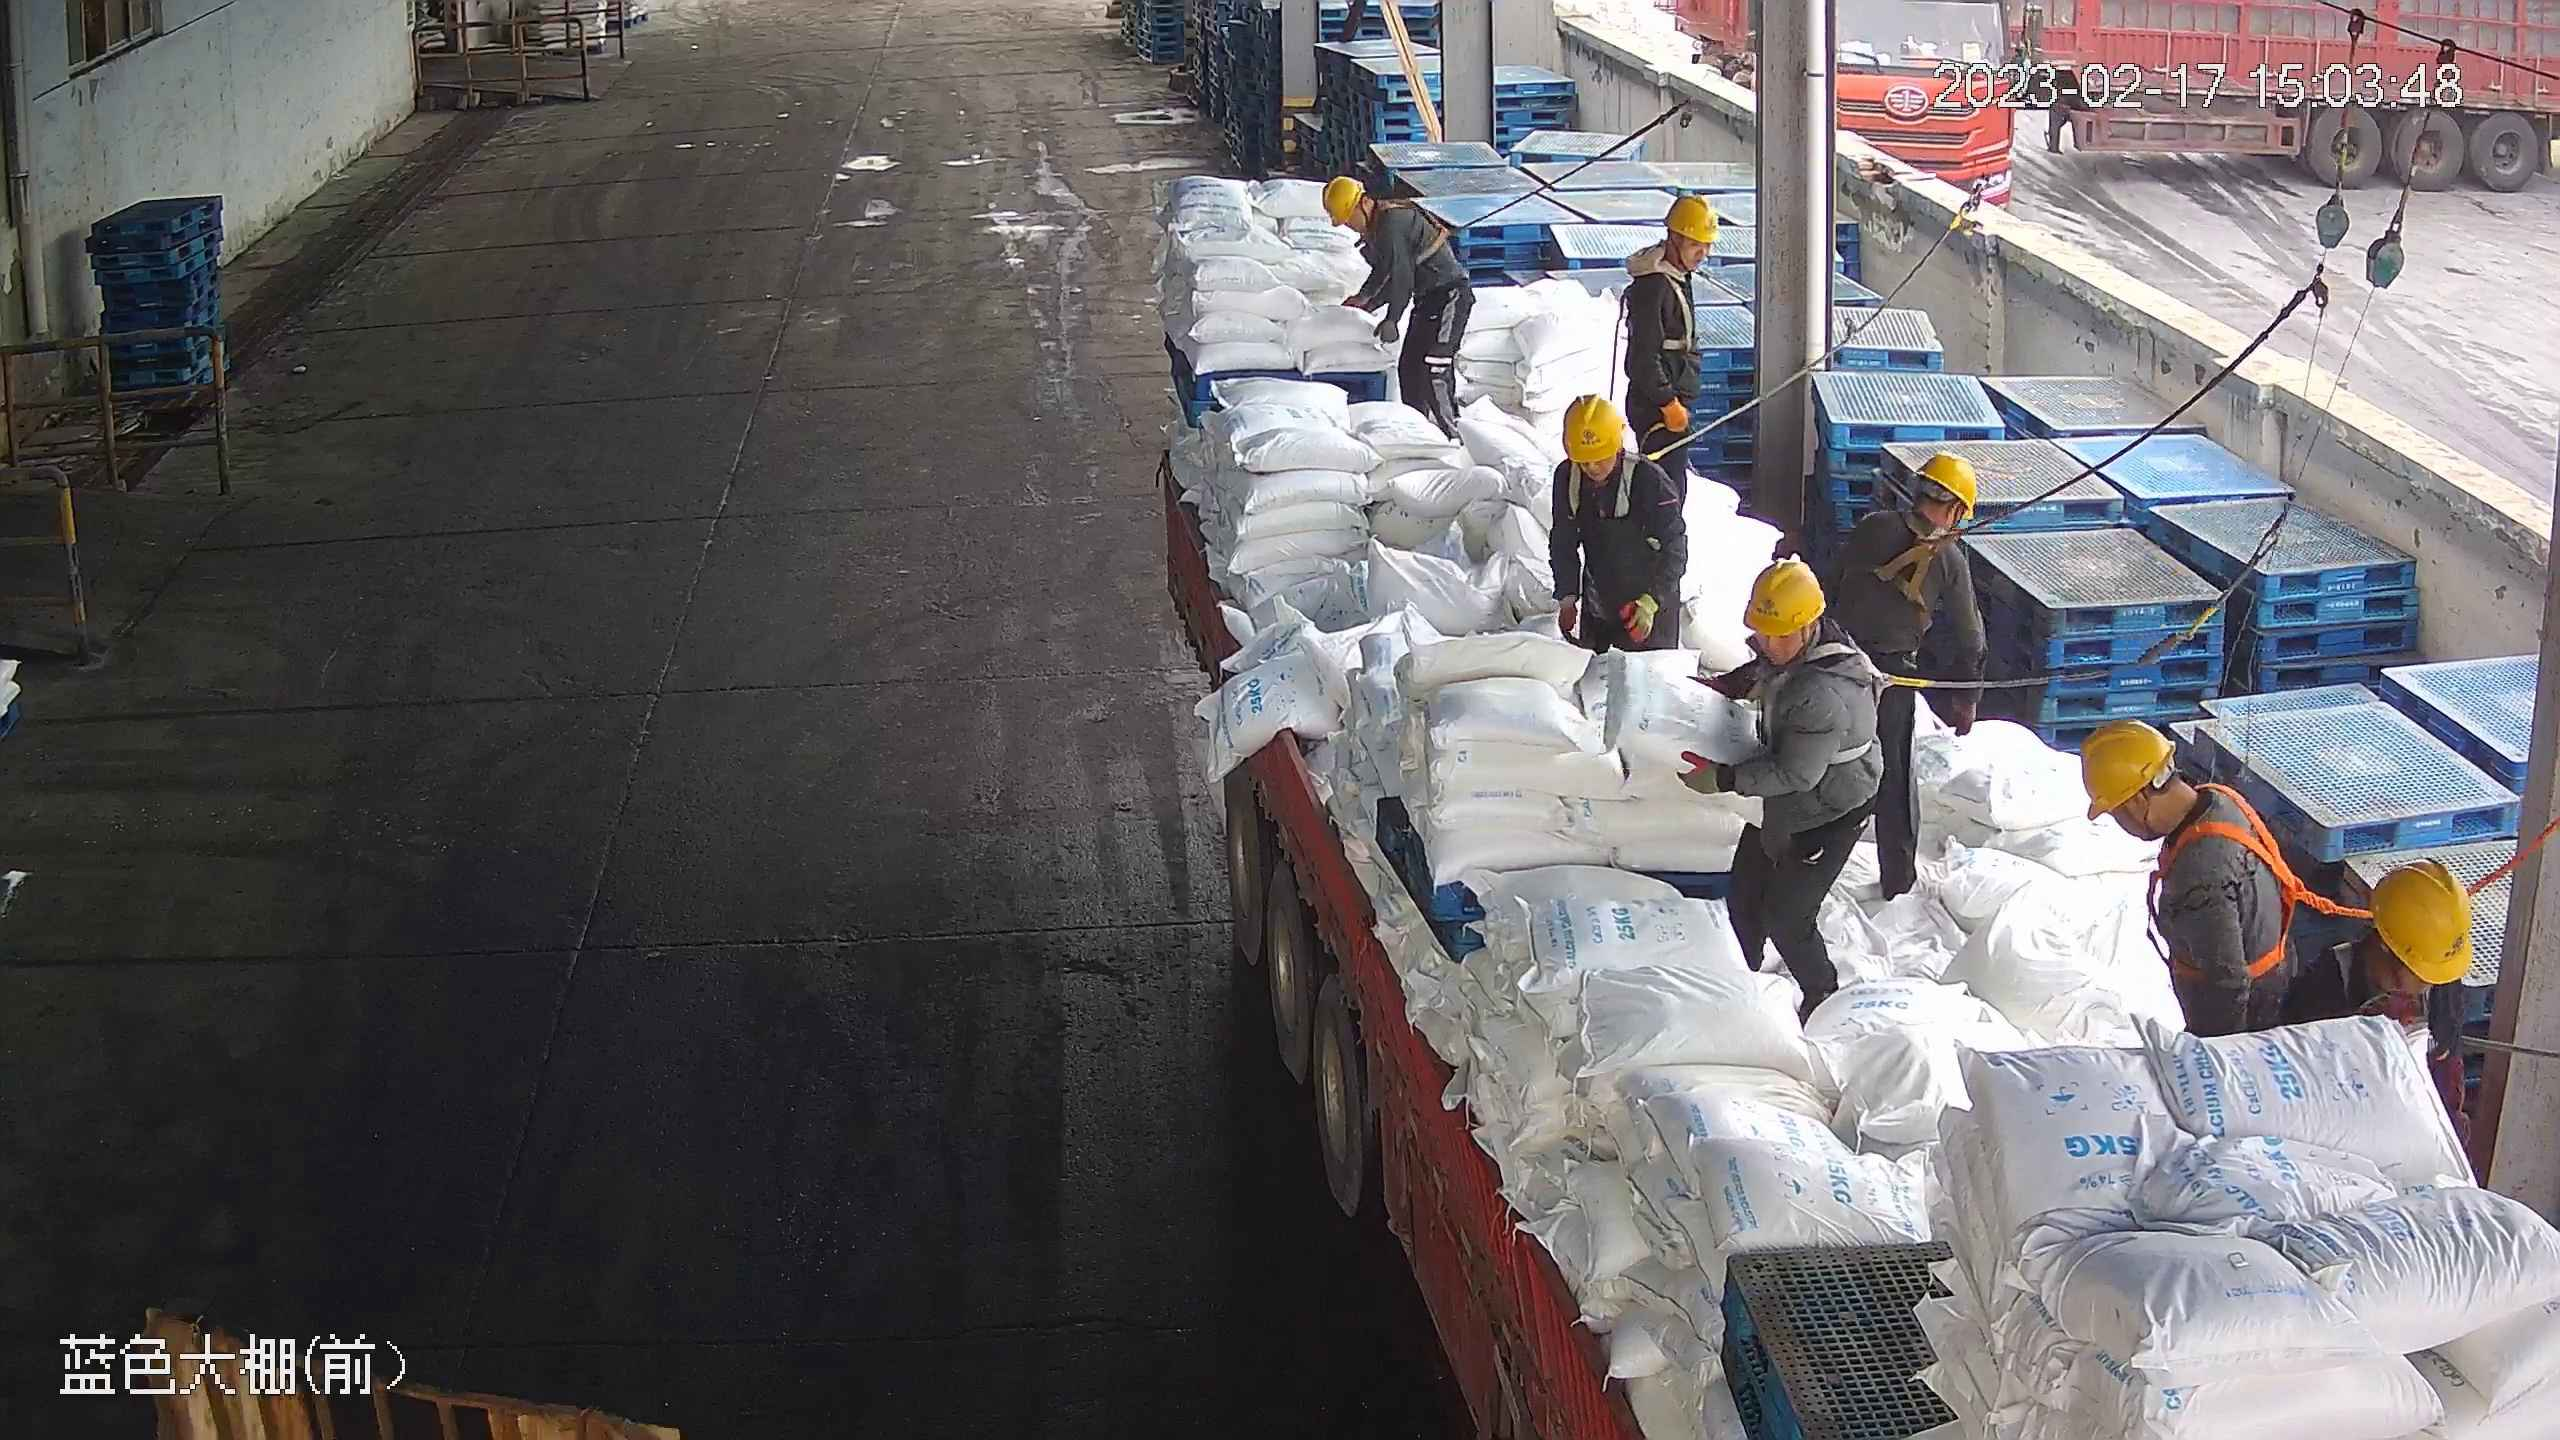belt: (2157, 801, 2326, 982), (1742, 632, 1900, 769), (1861, 499, 1977, 602), (1631, 254, 1711, 346), (1372, 196, 1455, 269), (2321, 924, 2380, 1028), (1567, 444, 1647, 518)
head: (2077, 715, 2293, 894), (2295, 855, 2486, 1006), (1729, 555, 1874, 711), (1847, 440, 1978, 568), (1548, 390, 1677, 505), (1619, 190, 1718, 305), (1321, 176, 1429, 257)
helmet: (2370, 857, 2477, 981), (2077, 715, 2174, 819), (1739, 554, 1826, 636), (1561, 389, 1628, 462), (1914, 448, 1979, 518), (1663, 190, 1721, 244), (1320, 174, 1365, 227)
people: (1678, 558, 1880, 1031), (1818, 451, 1979, 898), (1319, 176, 1475, 446), (1547, 393, 1690, 654), (1615, 186, 1711, 495)
truck: (1150, 141, 2526, 1440)
